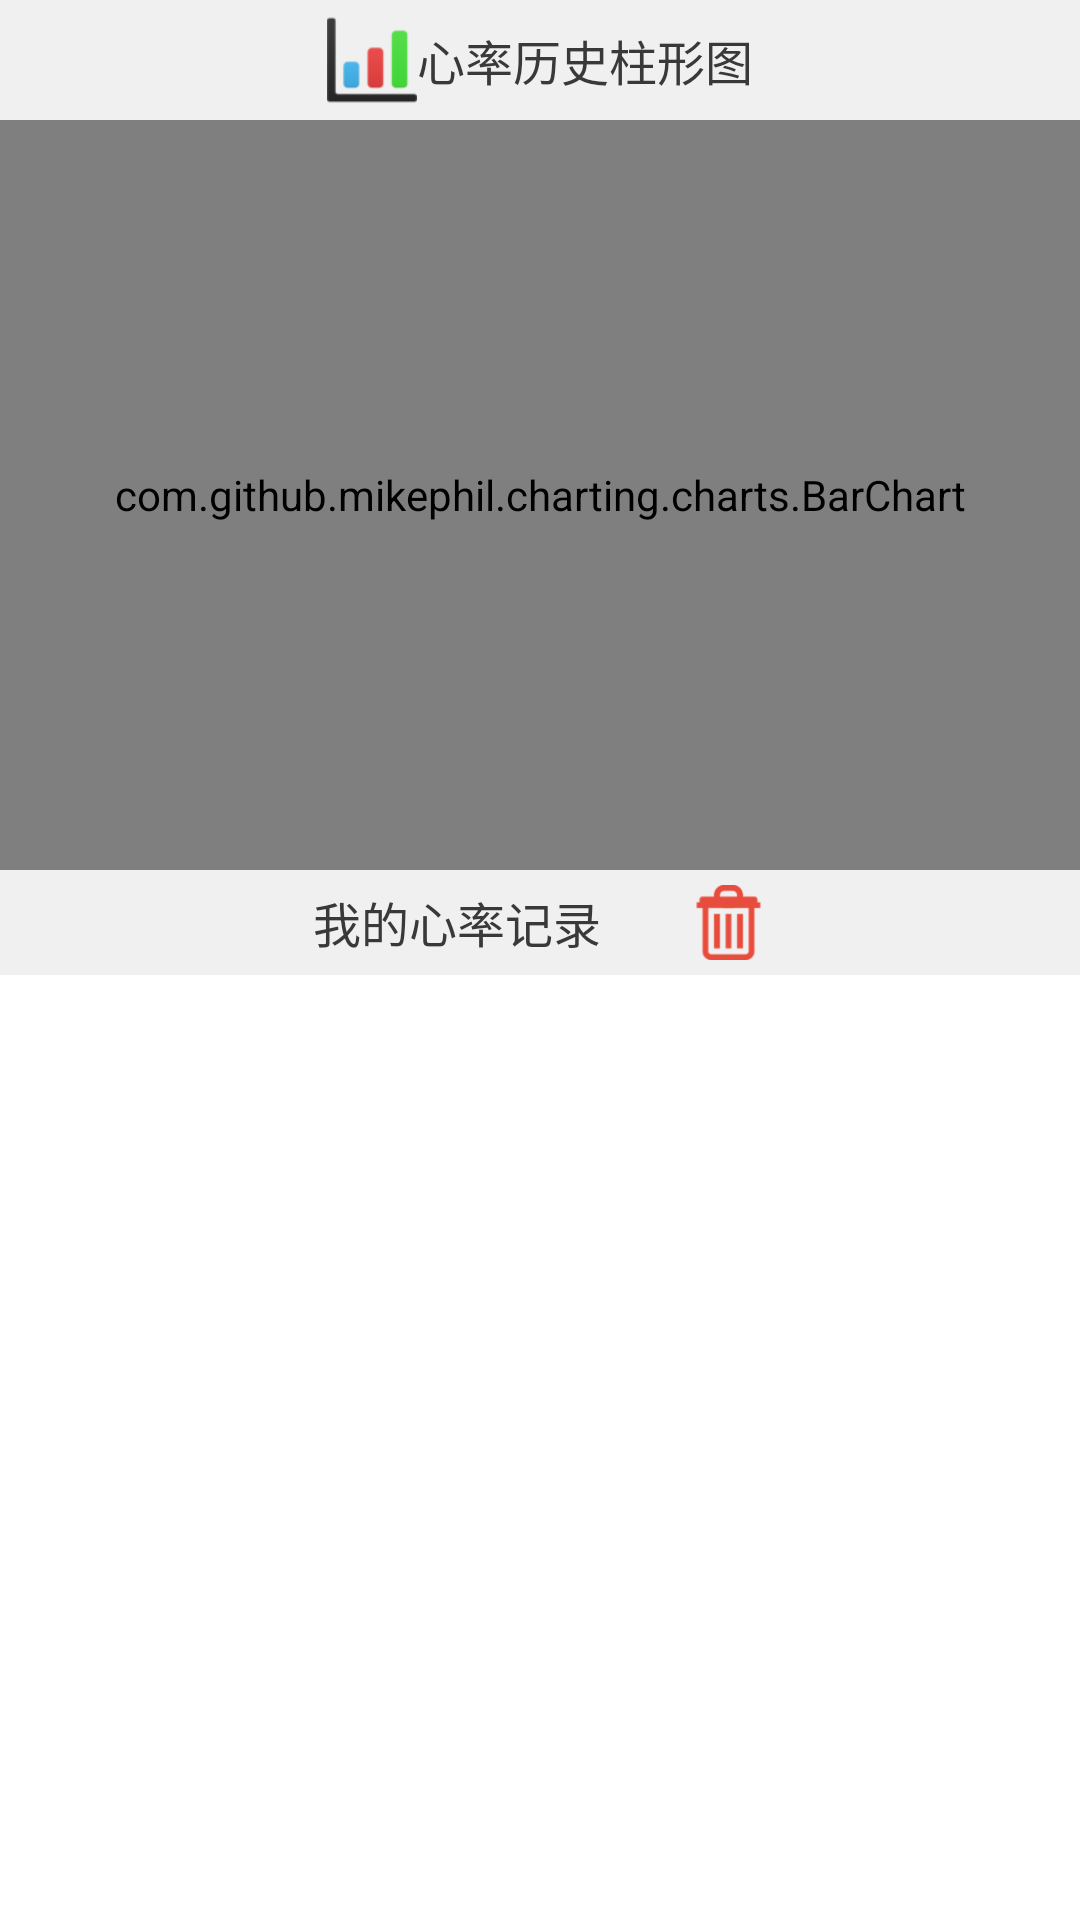

Screen size 1080 × 1920. Icon name, then its center in pixels as (x=x, y=y):
delete: (x=728, y=922)
